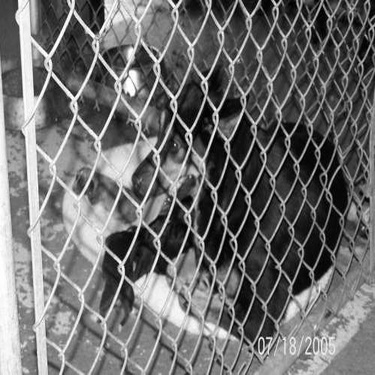dog: (90, 56, 353, 346)
